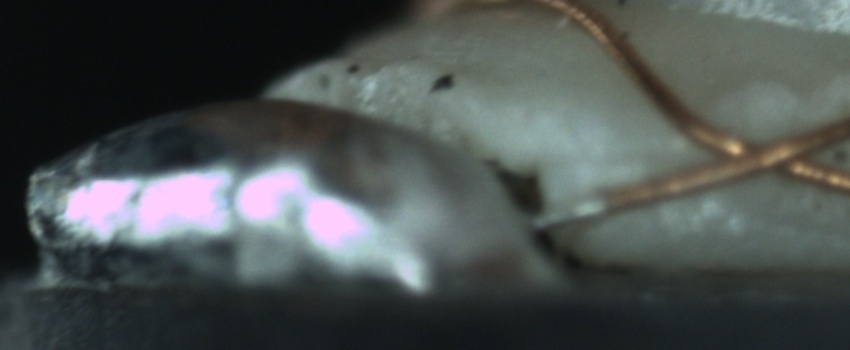TS: (527, 196, 607, 231)
